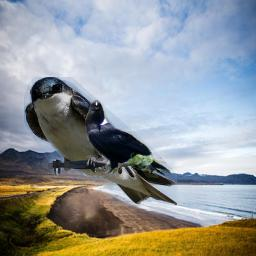Crow: (84, 100, 172, 180)
Swallow: (24, 77, 177, 206)
